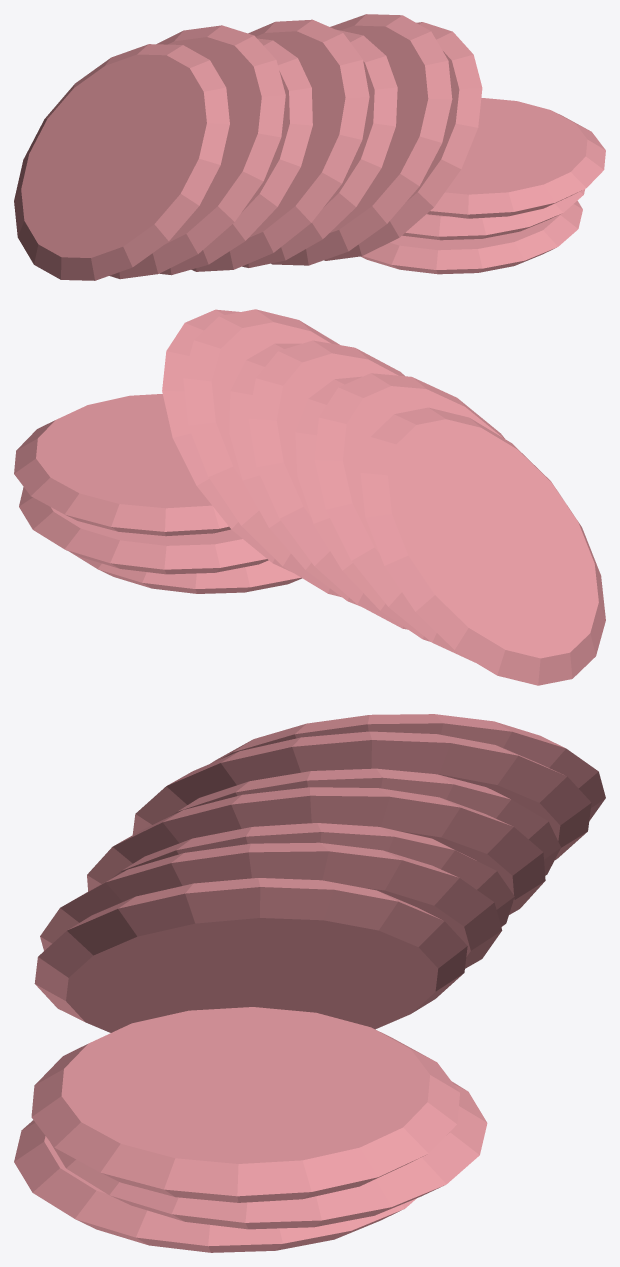
The model's file is SM_Cook_Topping_ColdCut_HD_01.fbx.
The picture shows the model from 3 angles, top to bottom: view 1: azimuth 30°, elevation 25°; view 2: azimuth 150°, elevation 25°; view 3: azimuth 270°, elevation 25°; orthographic projection. The views are drawn at different scales.
Parts seen in each view (by area): view 1: SM_Cook_Topping_ColdCut_HD_01; view 2: SM_Cook_Topping_ColdCut_HD_01; view 3: SM_Cook_Topping_ColdCut_HD_01.
Part boxes in pixels (bbox=[...]): SM_Cook_Topping_ColdCut_HD_01: bbox=[14, 14, 605, 280]; SM_Cook_Topping_ColdCut_HD_01: bbox=[14, 309, 605, 685]; SM_Cook_Topping_ColdCut_HD_01: bbox=[14, 714, 605, 1252].
Bounding box in the file's own units: 0.1756 × 0.0649 × 0.1103.
Materials: 1 (1 with a texture image).
